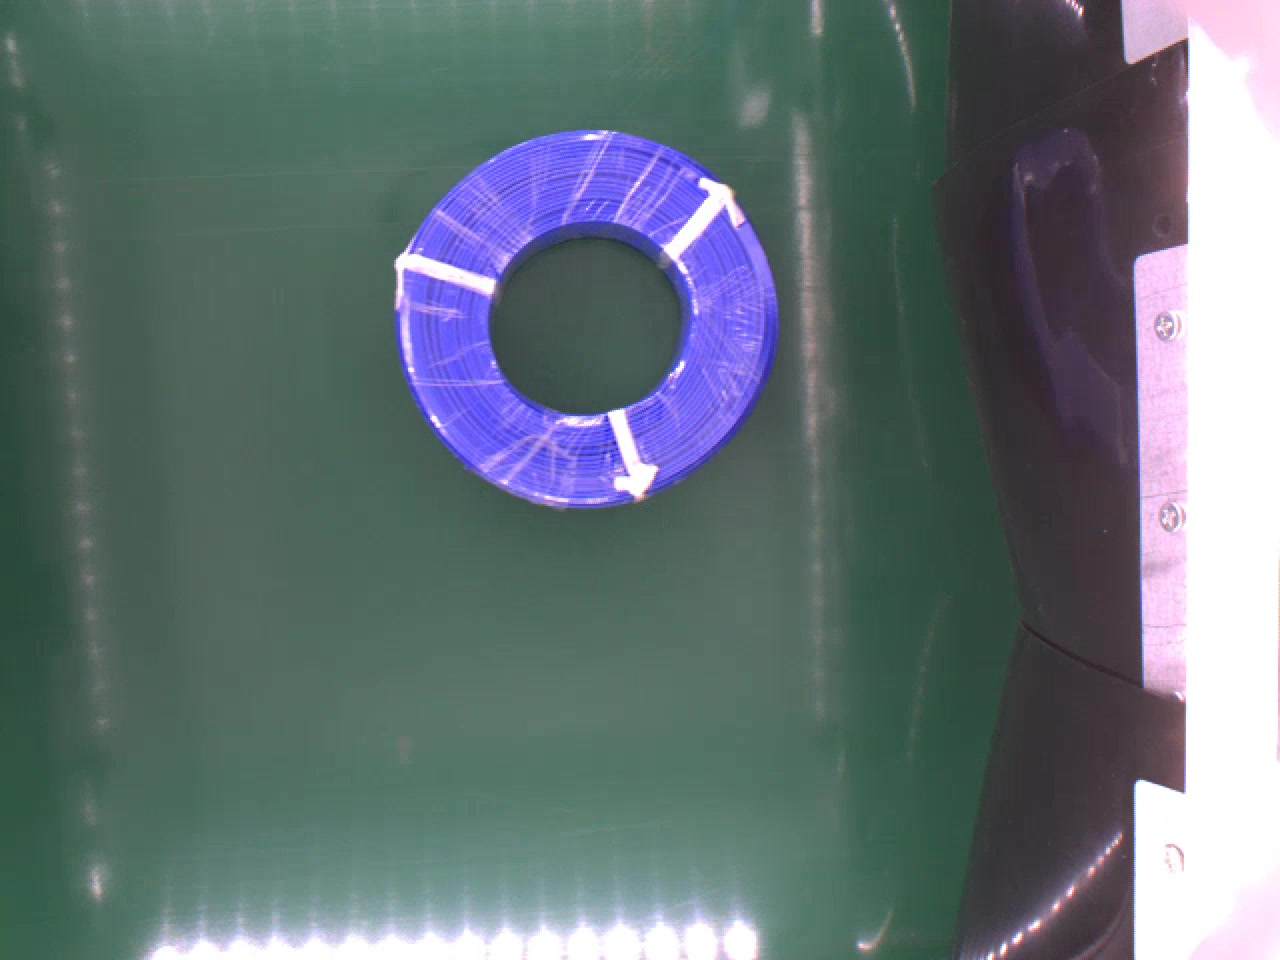blue: (393, 133, 780, 504)
